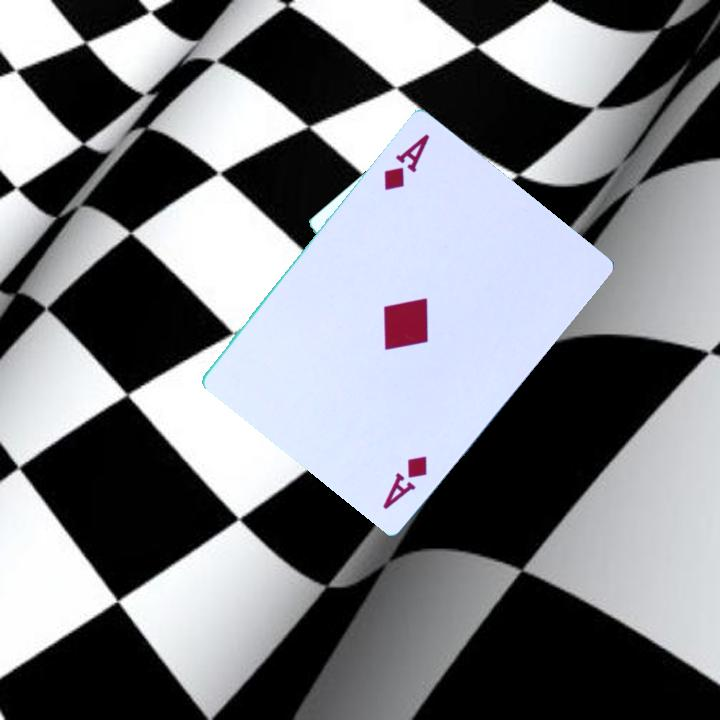Ad: (379, 129, 433, 193), (379, 451, 431, 512)
